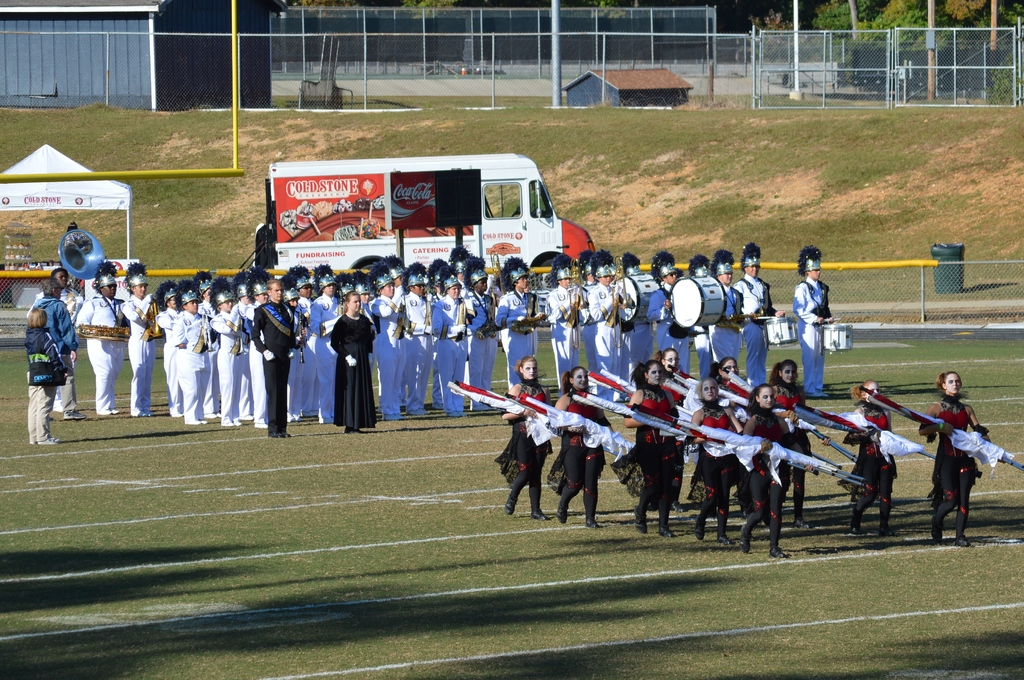Person: (24, 246, 991, 558)
